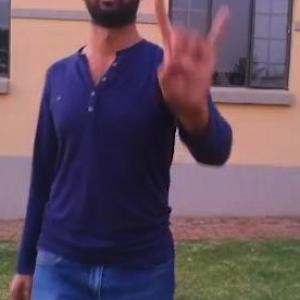takeoff-hand: (149, 0, 238, 111)
